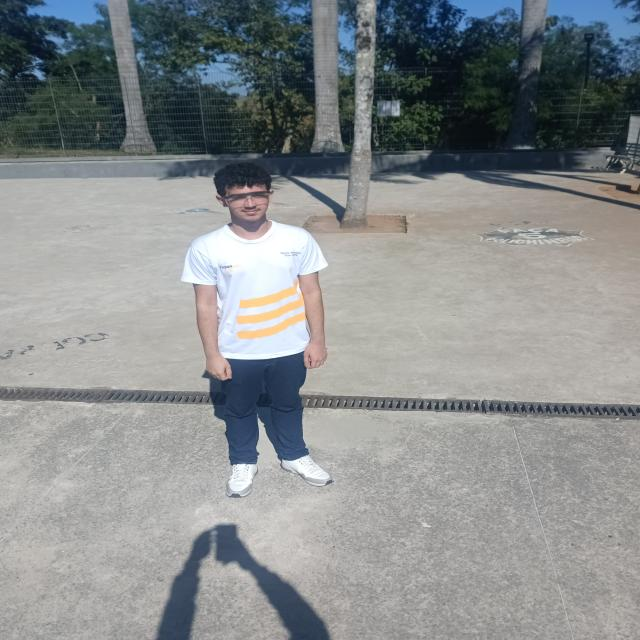oculos-epi: (222, 192, 271, 207)
